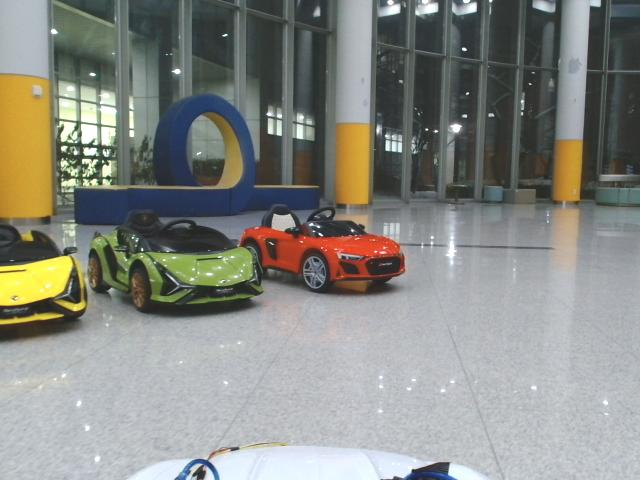car: (87, 208, 264, 312), (239, 203, 406, 291), (1, 223, 88, 332)
